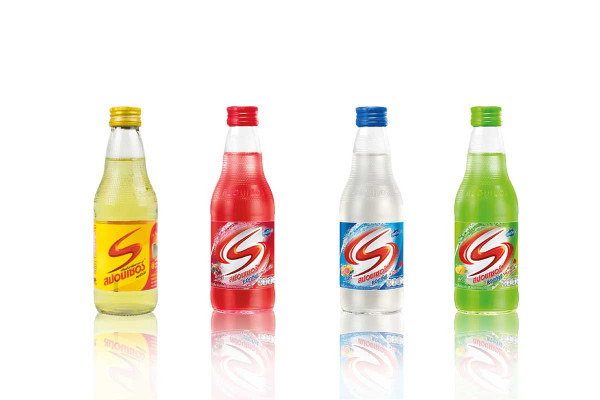glass_bottle: (327, 102, 417, 322), (442, 101, 528, 326), (200, 103, 283, 320), (88, 101, 162, 319)
